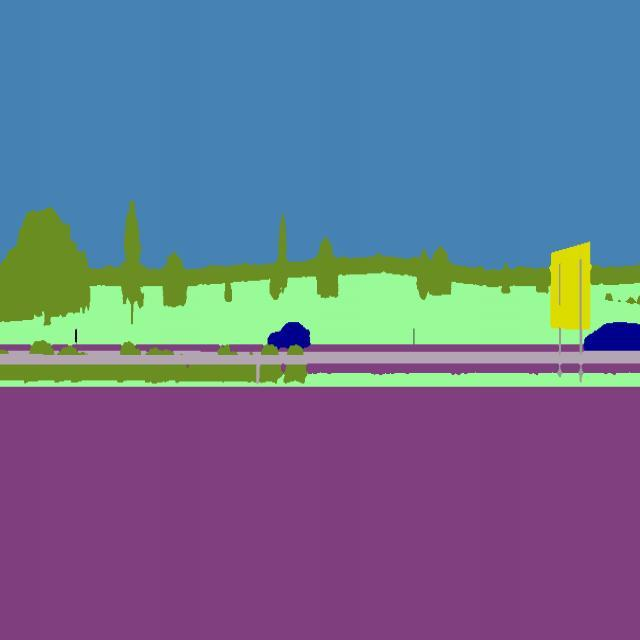safe: (580, 312, 640, 360), (266, 314, 314, 352)
